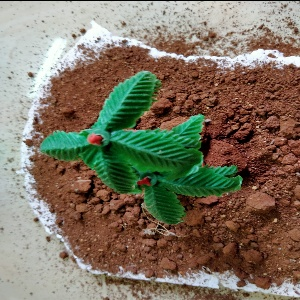plant: (37, 72, 244, 226)
